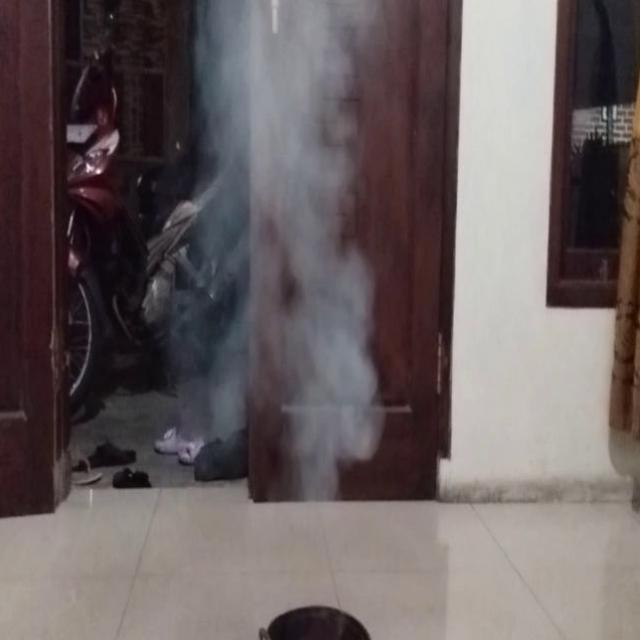fire: (196, 0, 384, 506)
